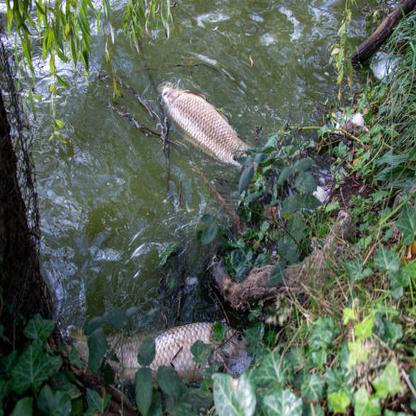deceased fish: (79, 315, 254, 376), (159, 77, 268, 169)
